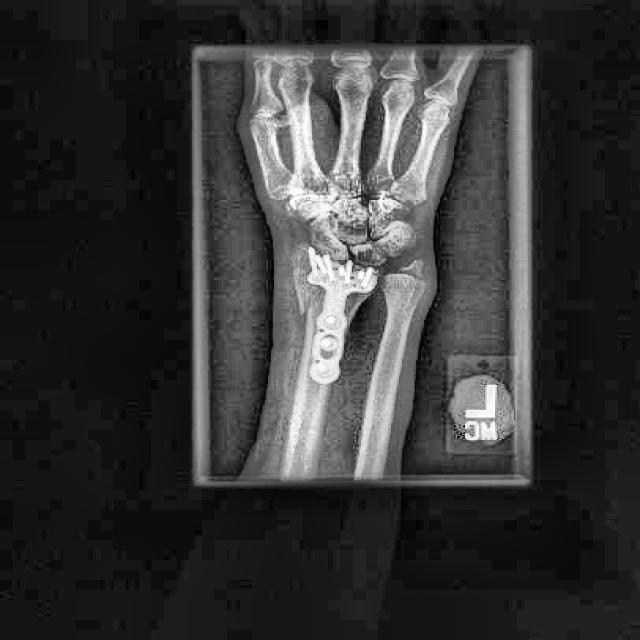wrist positive: (285, 259, 351, 332), (393, 256, 432, 291)
